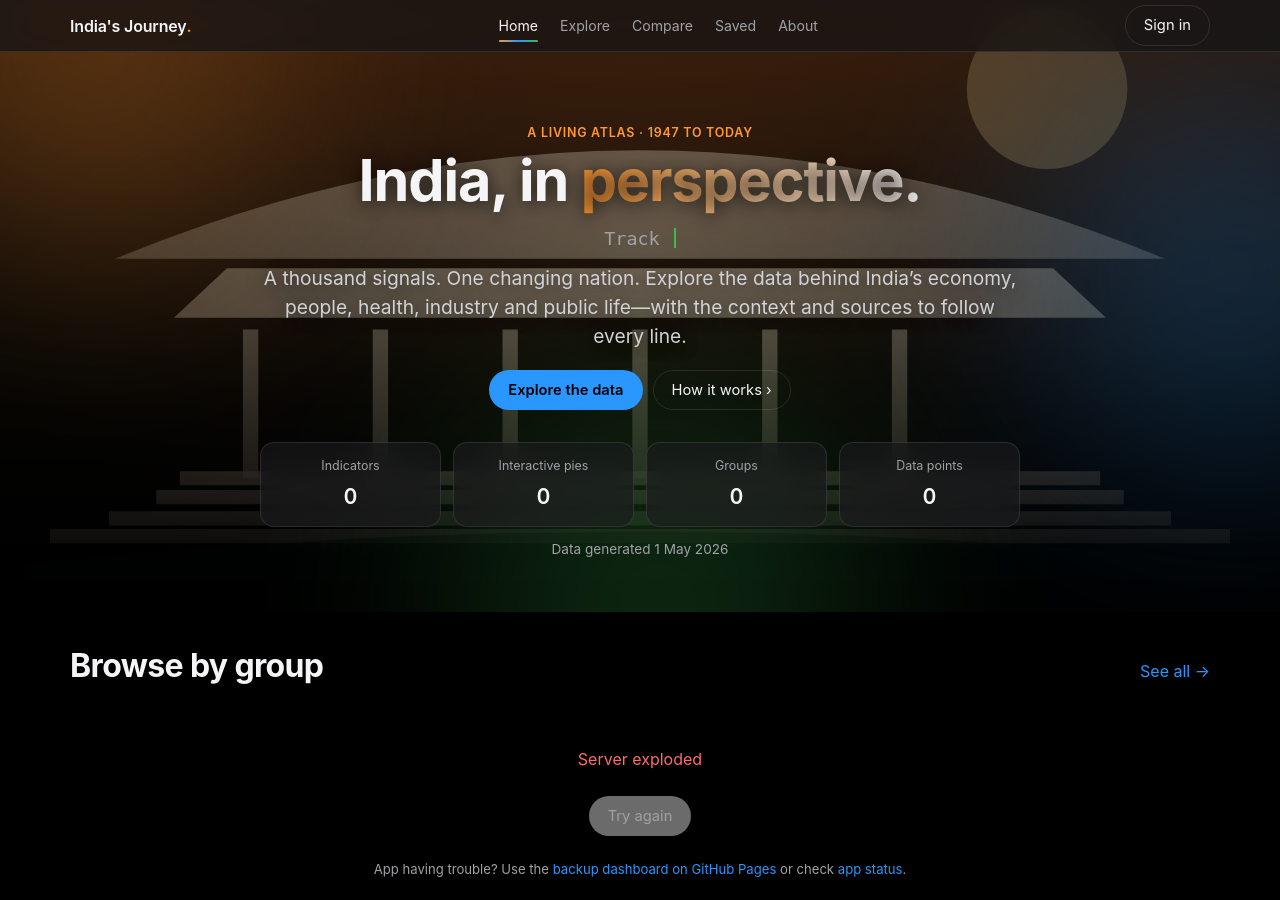
it: Layout and Home › shows a retry button when the API fails
Click the button "Try again" at {"x": 640, "y": 816}, box x1=589 y1=796 x2=691 y2=836
(page scrolled)
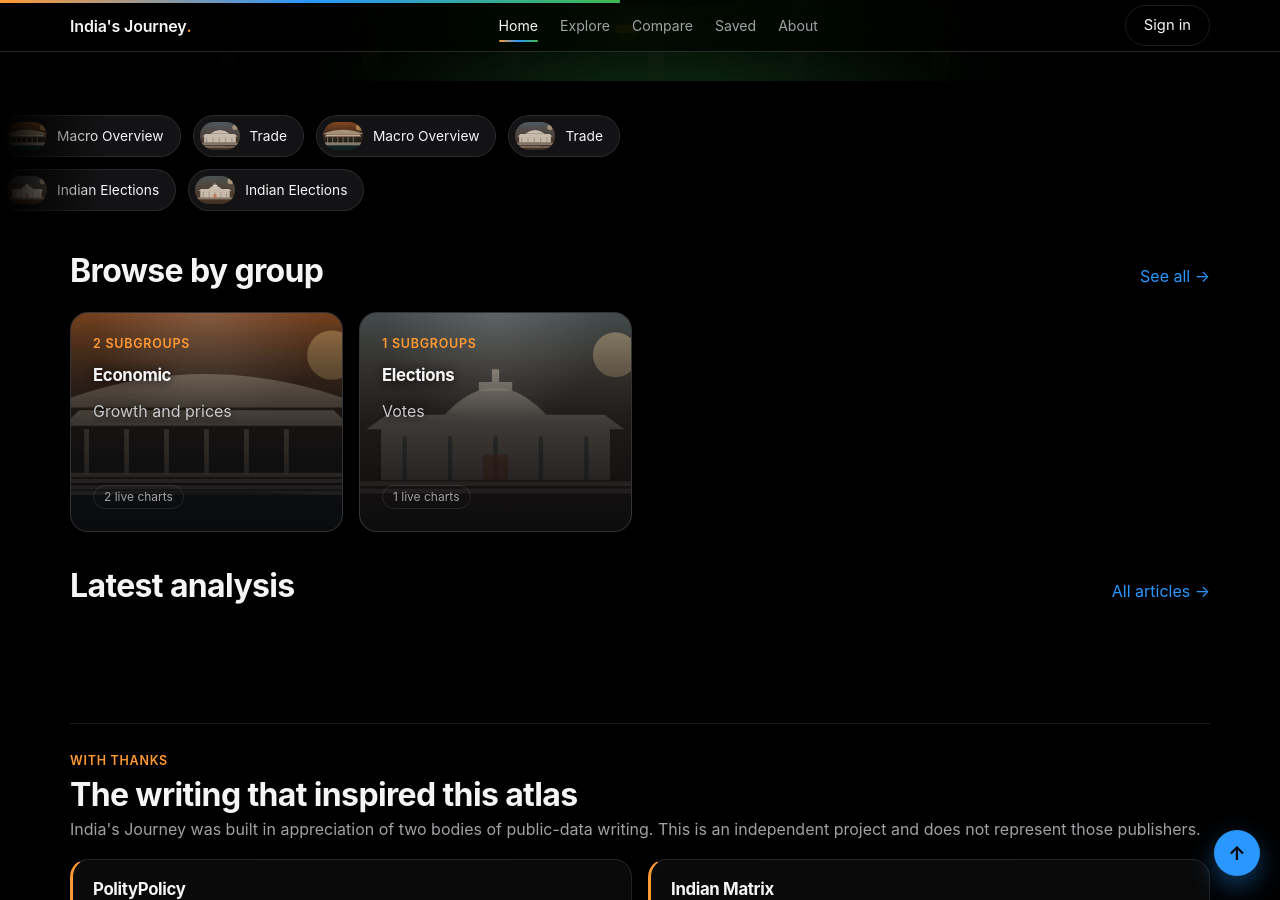
Check: the link "1 subgroups Elections Votes 1 live charts" is shown, box x1=359 y1=312 x2=632 y2=532
